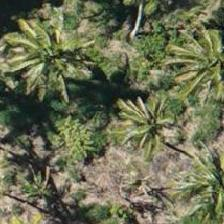coconut_tree: (8, 1, 98, 91), (105, 77, 195, 167), (177, 23, 223, 113)
